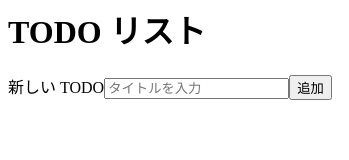
Test: 受入基準4: エラー表示 › 追加失敗時にエラーメッセージが表示される
This screenshot has width=349, height=160.
Type "テスト" into the field labelled "新しい TODO" at x=197, y=88, box 104,78 -> 289,99
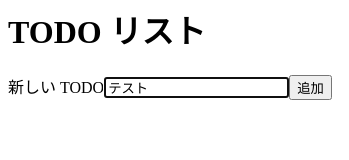
Click the button "追加" at x=311, y=87, box 289,75 -> 332,100
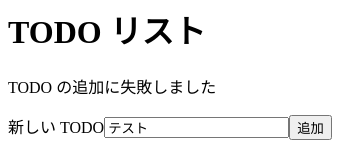
Check: the message shows "失敗", box 8,79 -> 216,96
